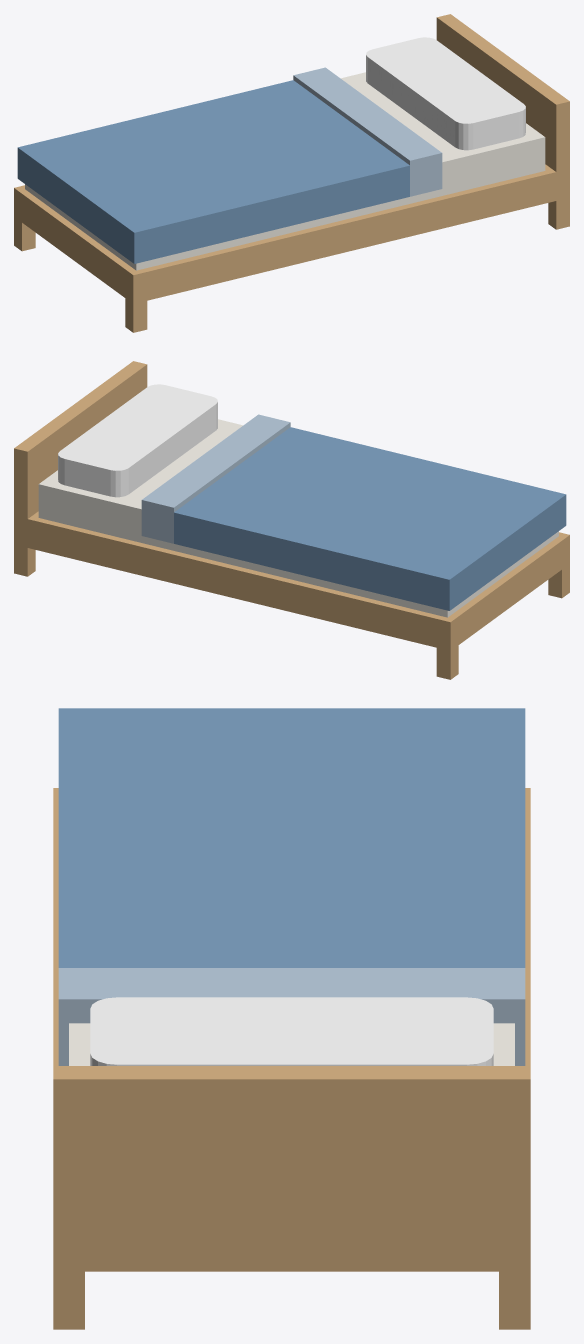
The model's file is normal_bed.glb.
The picture shows the model from 3 angles, top to bottom: view 1: azimuth 30°, elevation 25°; view 2: azimuth 150°, elevation 25°; view 3: azimuth 270°, elevation 25°; orthographic projection. The views are drawn at different scales.
Visible parts, largest first — view 1: normal_bed_Body; view 2: normal_bed_Body; view 3: normal_bed_Body.
Boxes of the visible parts, x1,y1,x2,y2 form: normal_bed_Body: (14,14,569,332); normal_bed_Body: (14,361,569,679); normal_bed_Body: (53,708,530,1329).
Bounding box in the file's own units: 1.9 × 0.52 × 0.9.
